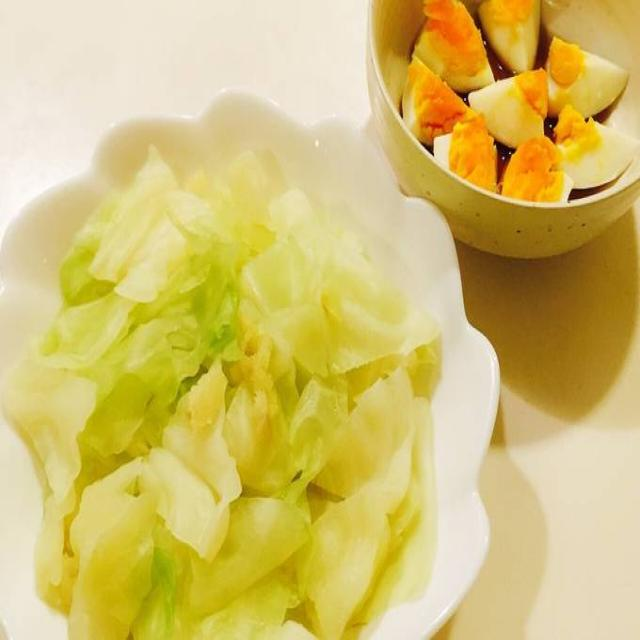bap cai luoc: (6, 153, 440, 639)
trung luoc: (402, 0, 630, 200)
